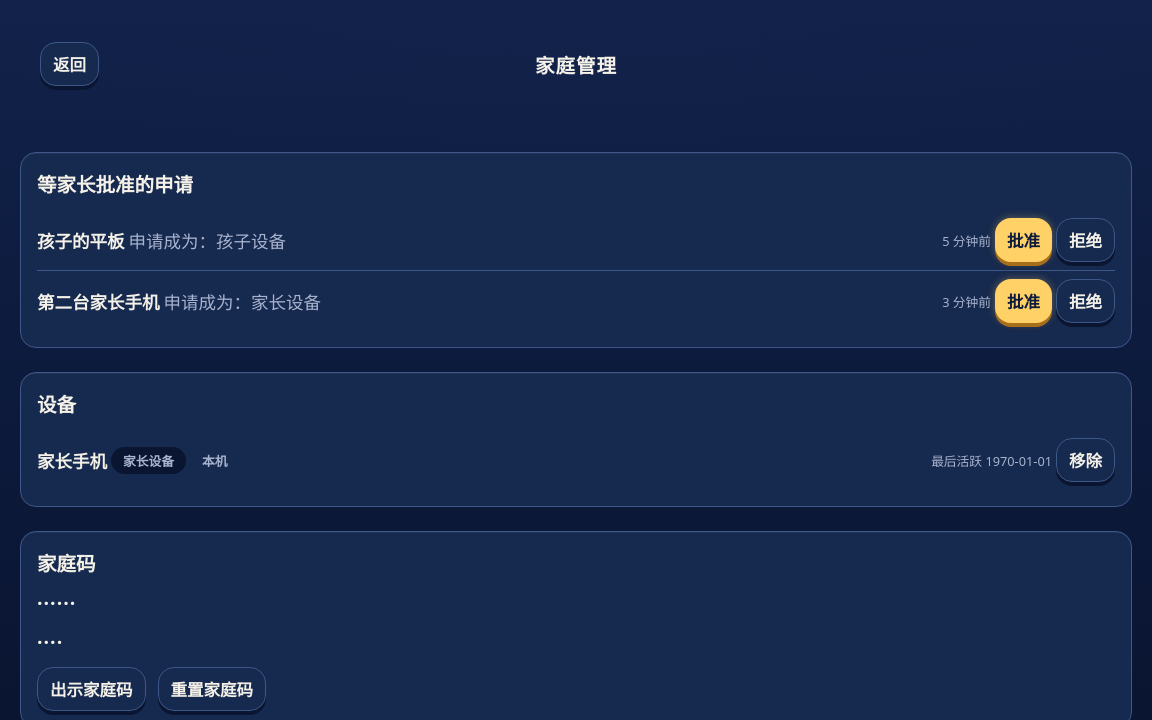
Test: #143 批准 / 拒绝流程（无二次确认） › 并发后到（409 / 404）：toast「这条申请刚被处理过」+ 列表刷新，无错误态
Click the button "批准" next to "5 分钟前" at coordinates (1024, 240), box [995, 218, 1052, 262]
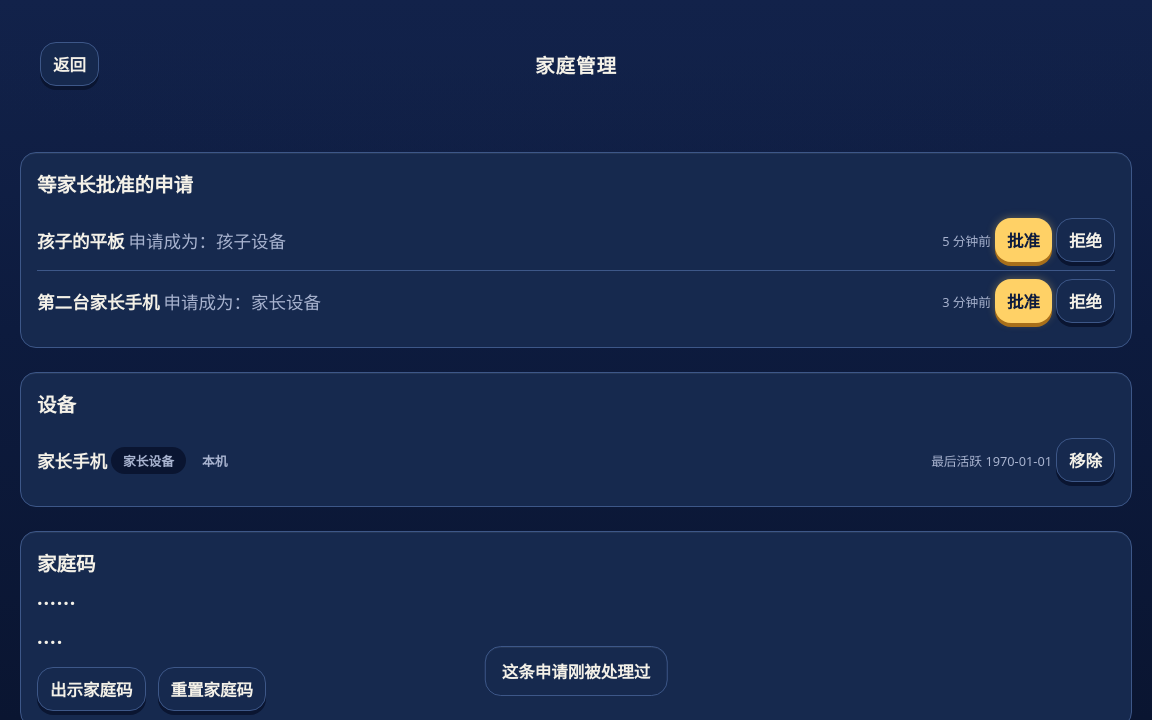
Check: the message with class "toast" reads "这条申请刚被处理过", box [502, 660, 650, 683]
